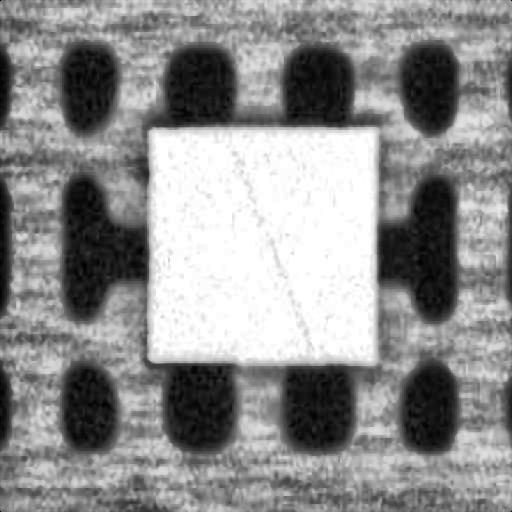DIE_CRACK: (225, 135, 306, 340)
